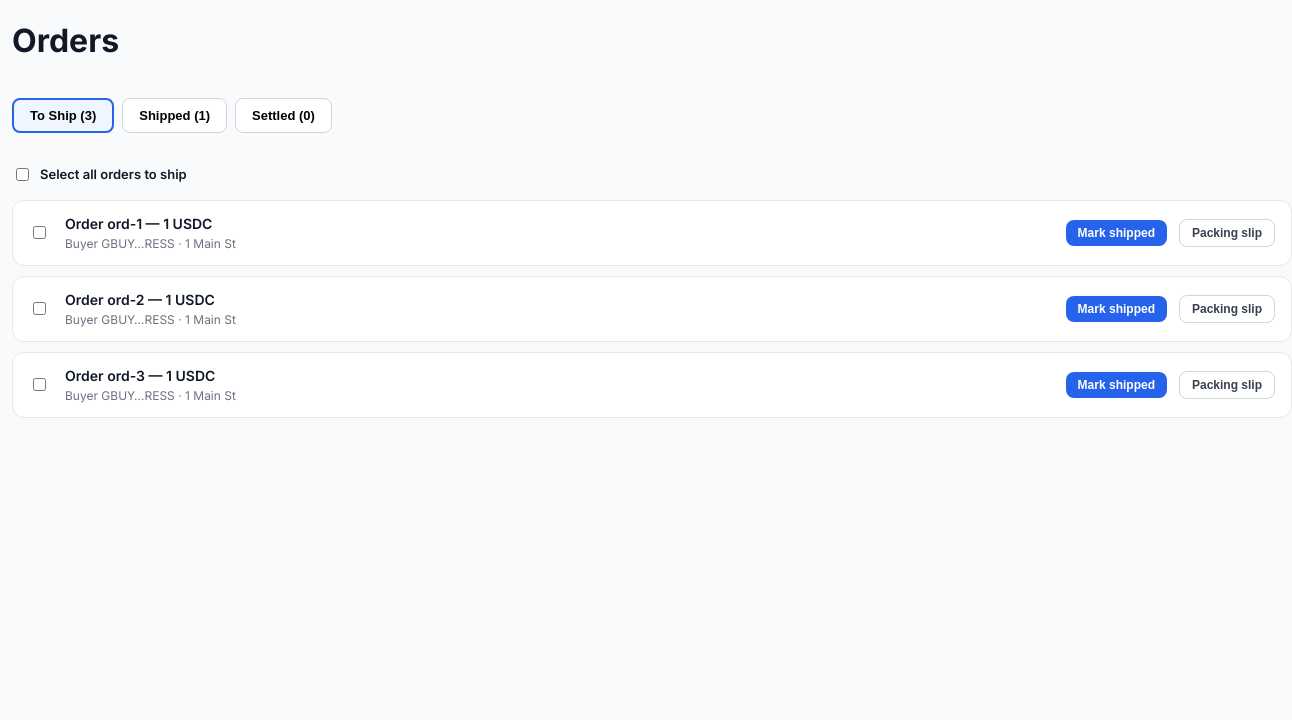
MerchantOrdersPage bulk fulfillment (#1014) › shows checkboxes only on orders to ship, and the action bar once one is selected
The width and height of the screenshot is (1292, 720).
Click the checkbox named "Select order ord-2" at (40, 309), box [33,302,46,315]
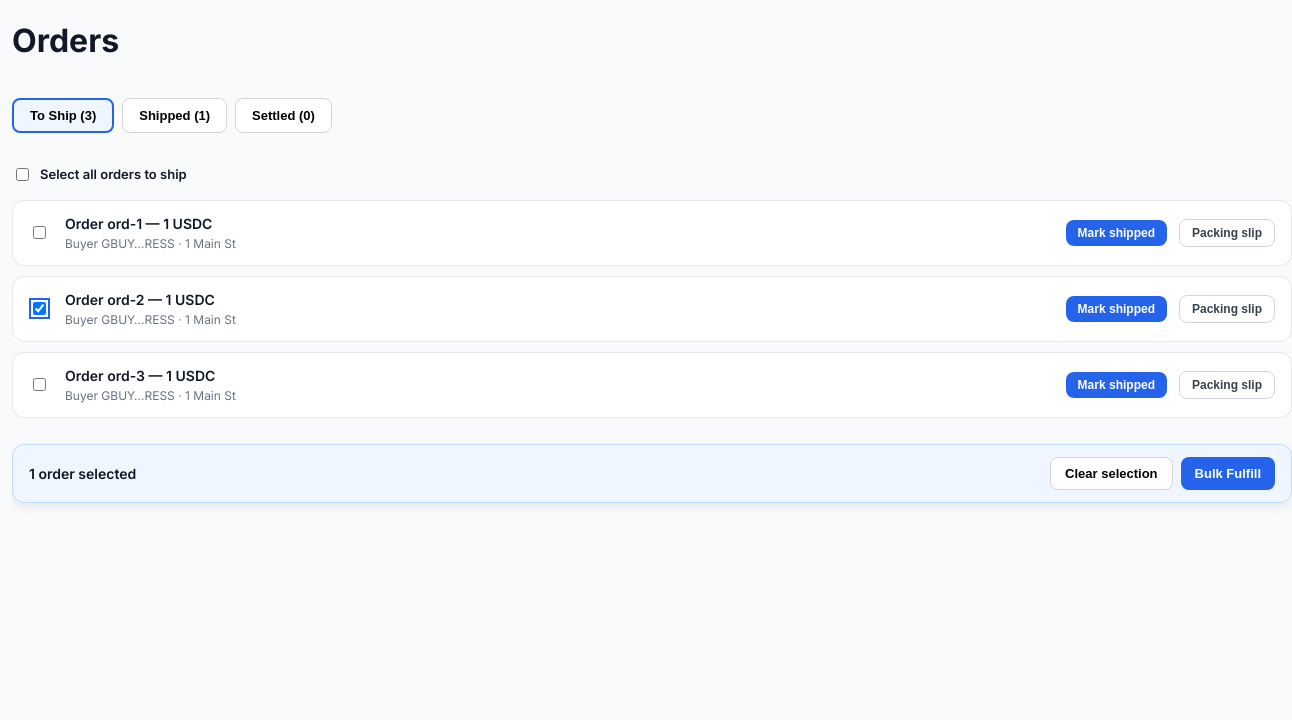
Now the element named "Bulk order actions" shows "1 order selected", box [29,465,136,482]
Click the checkbox labelled "Select all orders to ship" at (22, 174), box [16,168,29,181]
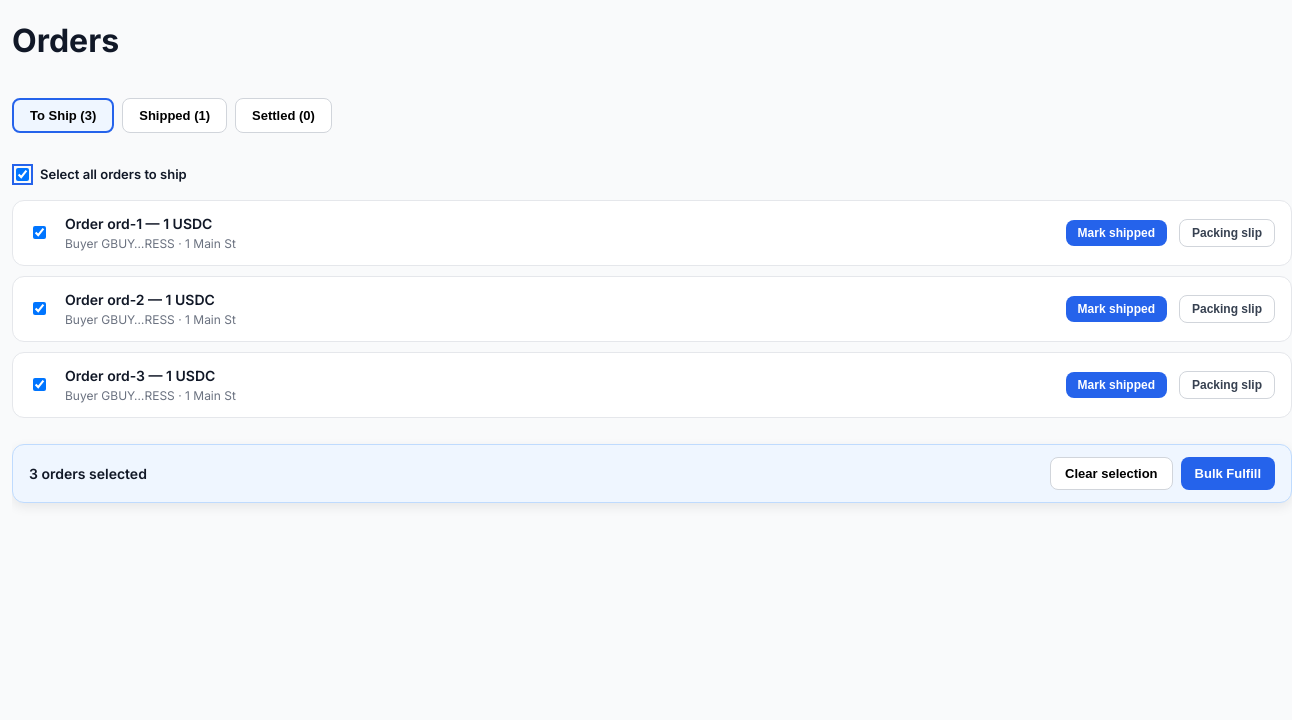
Now the element named "Bulk order actions" shows "3 orders selected", box [29,465,147,482]
